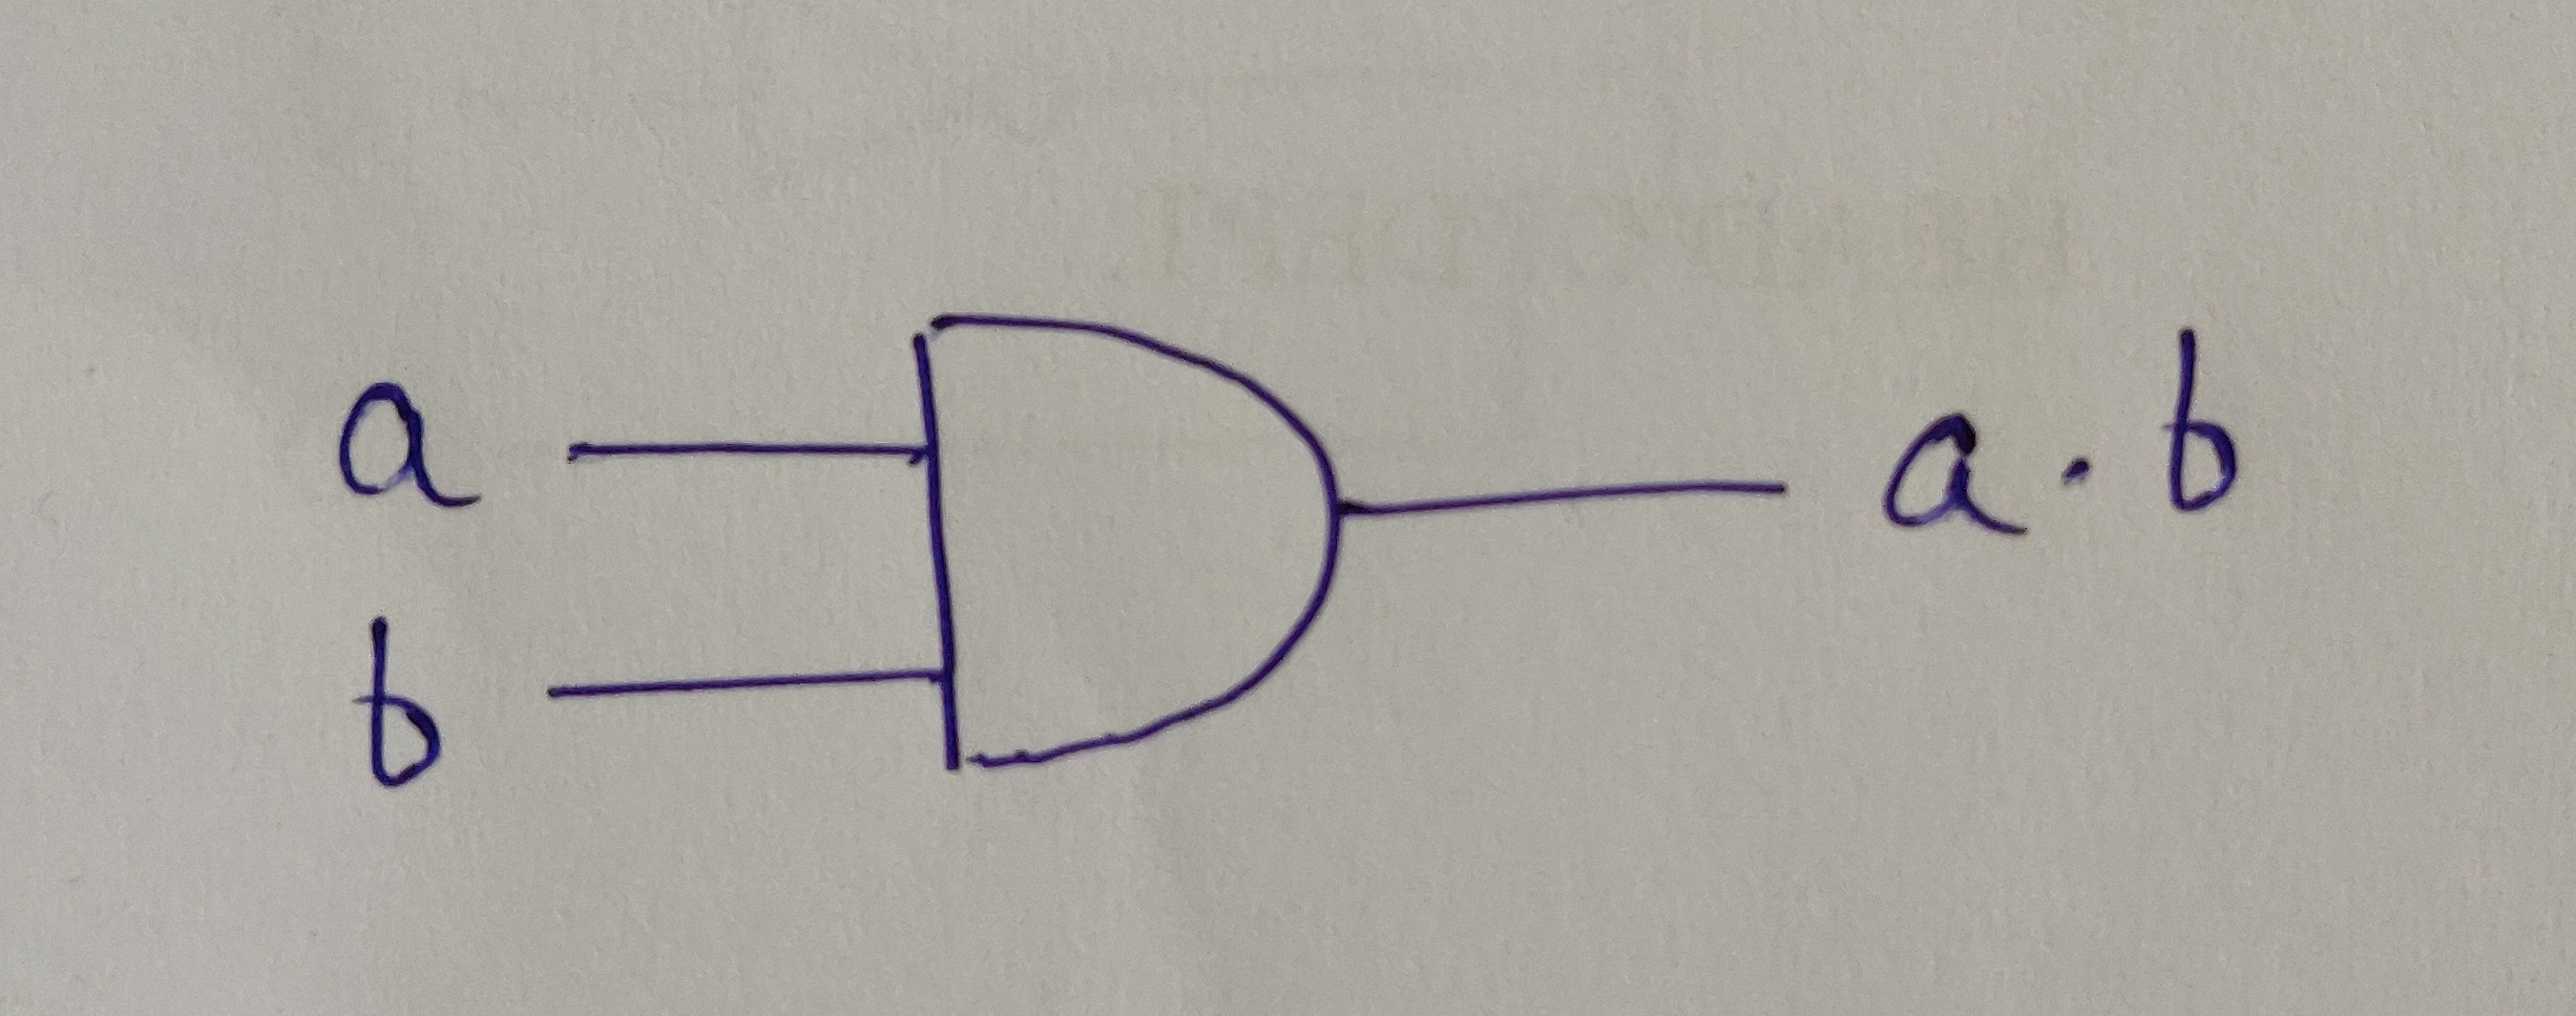and: (844, 260, 1395, 835)
